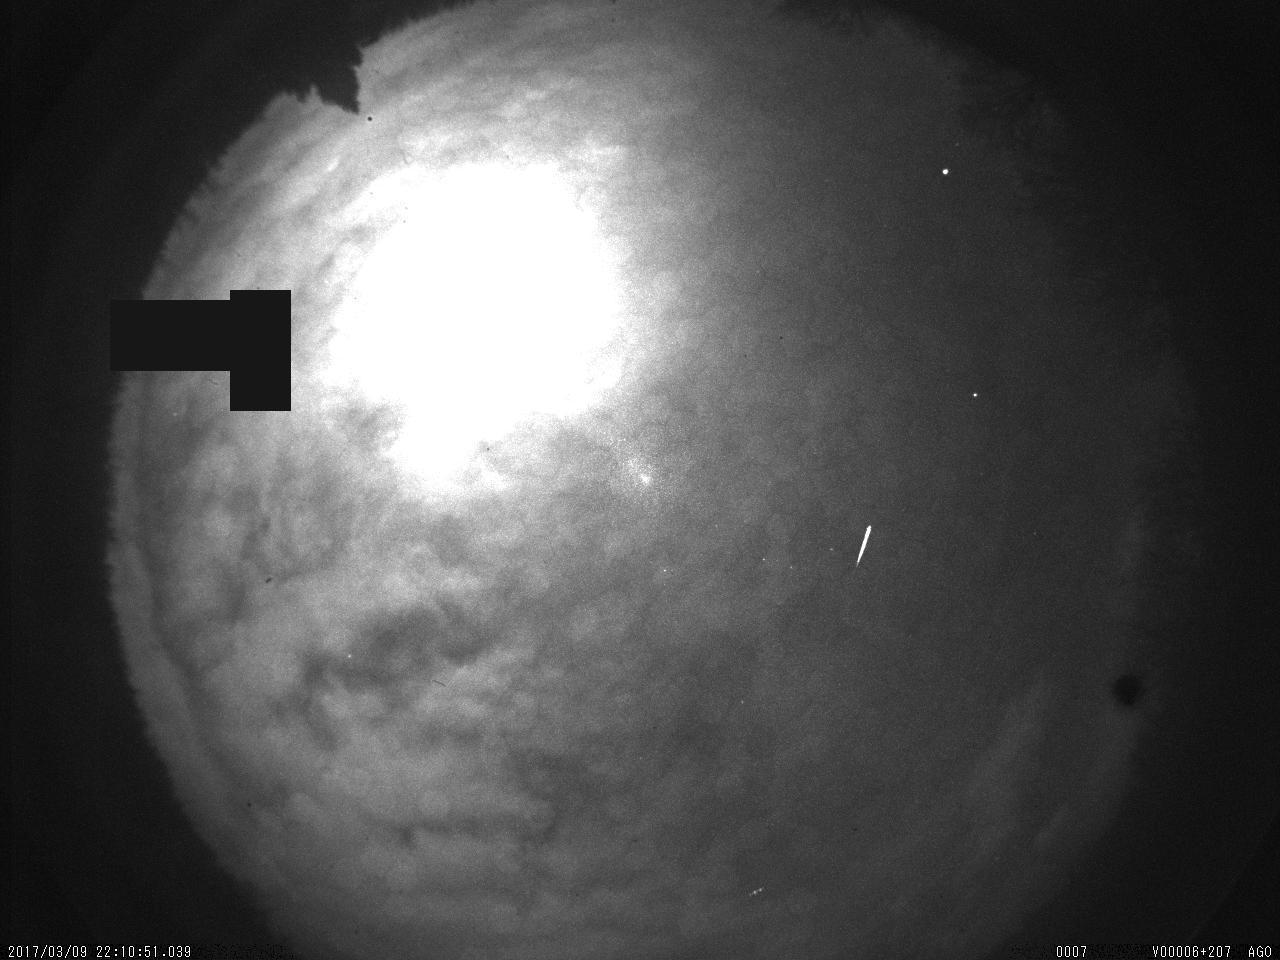Meteor: (850, 521, 876, 570)
